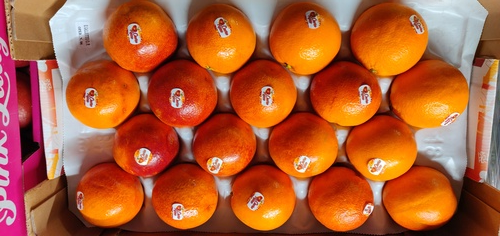orange: (63, 48, 141, 130), (393, 56, 471, 136), (227, 56, 302, 127), (76, 161, 148, 227)
